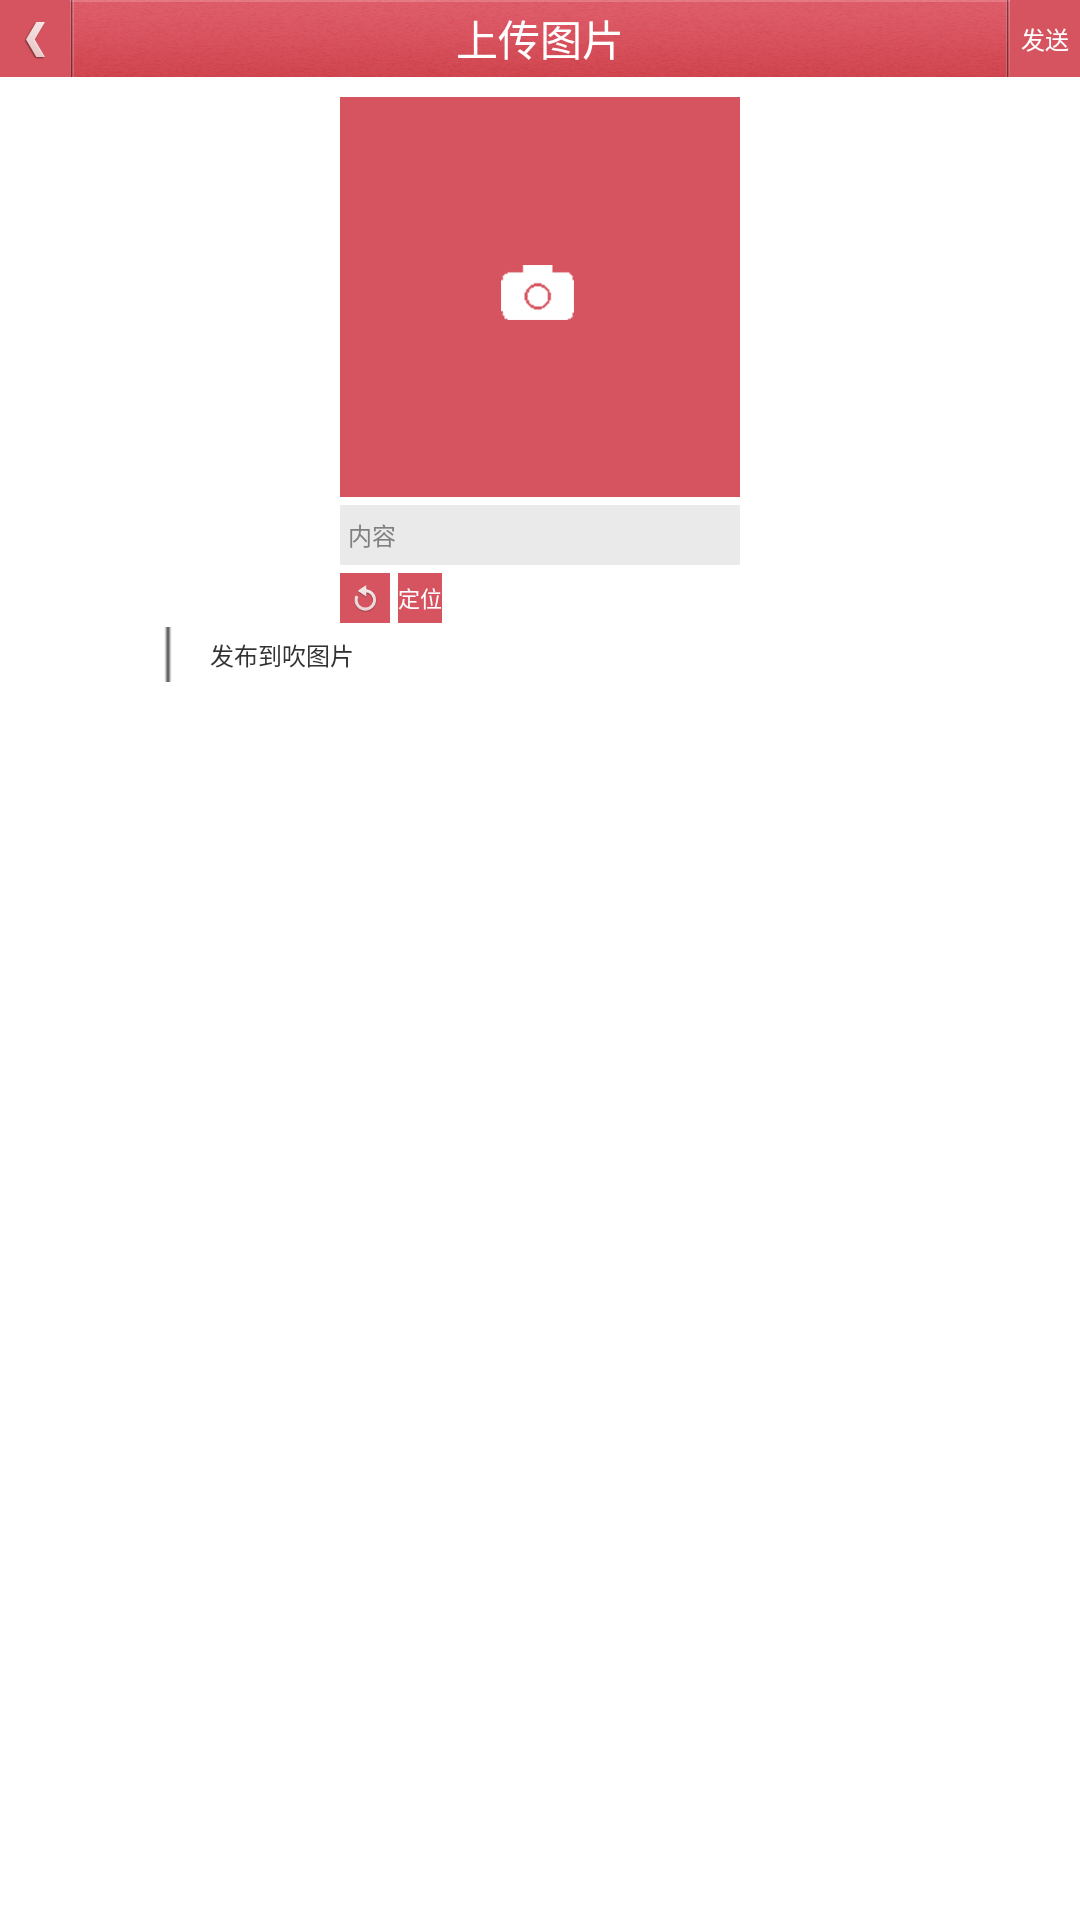

Point at icon controls on the screen. Image size 1080×1920, points as [x,y].
crackdown camera: [537,292]
public back: [35,38]
public refresh: [365,598]
